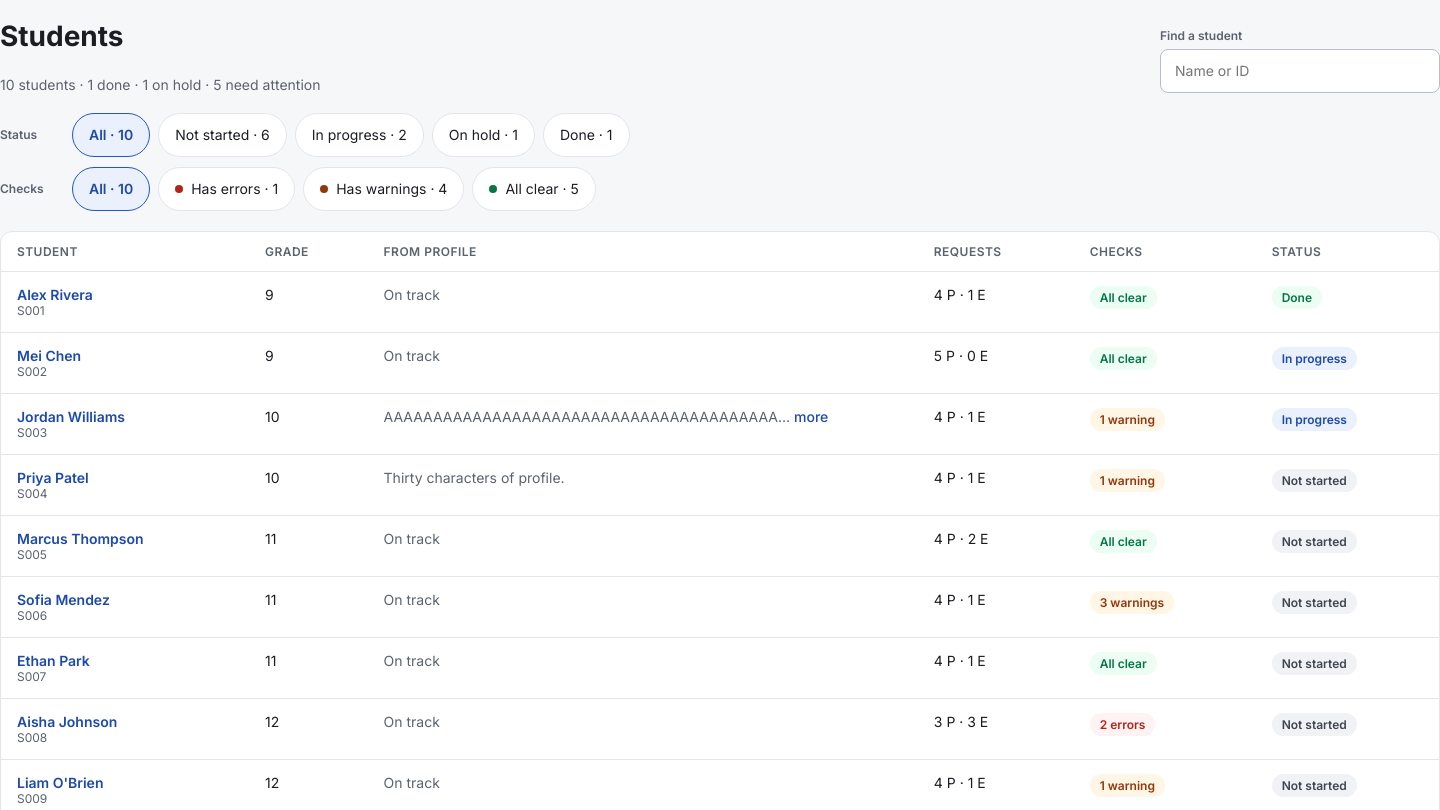
Test: a search with no match says so
Step 1. Type "zzz" into the search field labelled "Find a student" → (1300, 70), box x1=1160 y1=48 x2=1439 y2=92
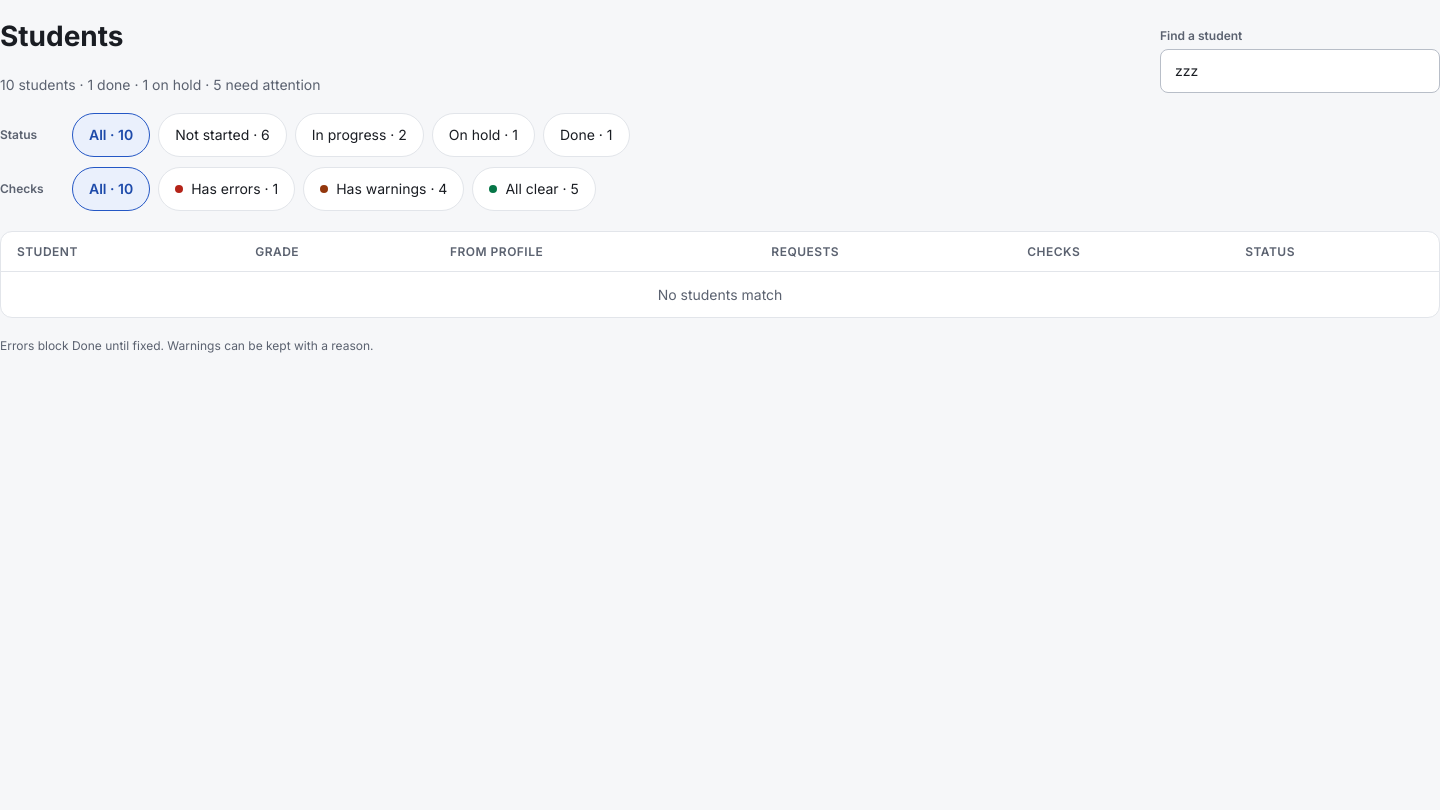
Now the text "No students match" is shown, box x1=1 y1=271 x2=1439 y2=316
